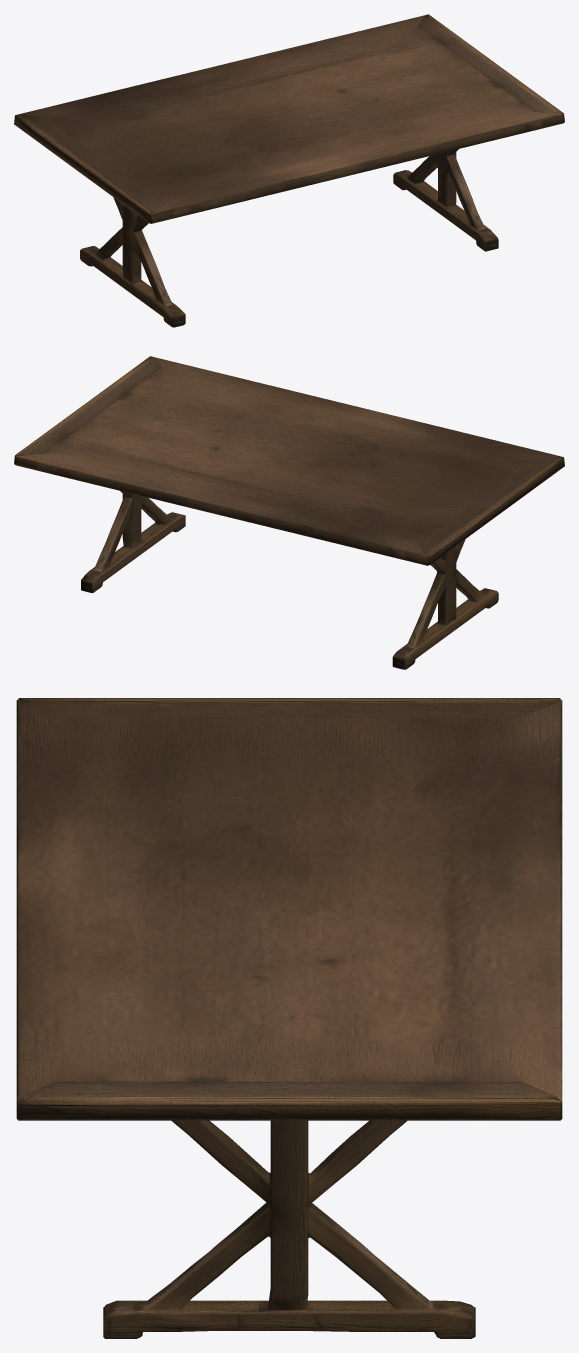
The model's file is Table_48_x_96_Farm_S_0403041622_texture.glb.
The picture shows the model from 3 angles, top to bottom: view 1: azimuth 30°, elevation 25°; view 2: azimuth 150°, elevation 25°; view 3: azimuth 270°, elevation 25°; orthographic projection. The views are drawn at different scales.
Parts seen in each view (by area): view 1: Mesh_0; view 2: Mesh_0; view 3: Mesh_0.
Part boxes in pixels (x1,y1,x2,y2): Mesh_0: (14, 14, 564, 327); Mesh_0: (14, 356, 564, 669); Mesh_0: (16, 698, 562, 1338).
Bounding box in the file's own units: 2.36 × 0.762 × 1.34.
Materials: 1 (1 with a texture image).
